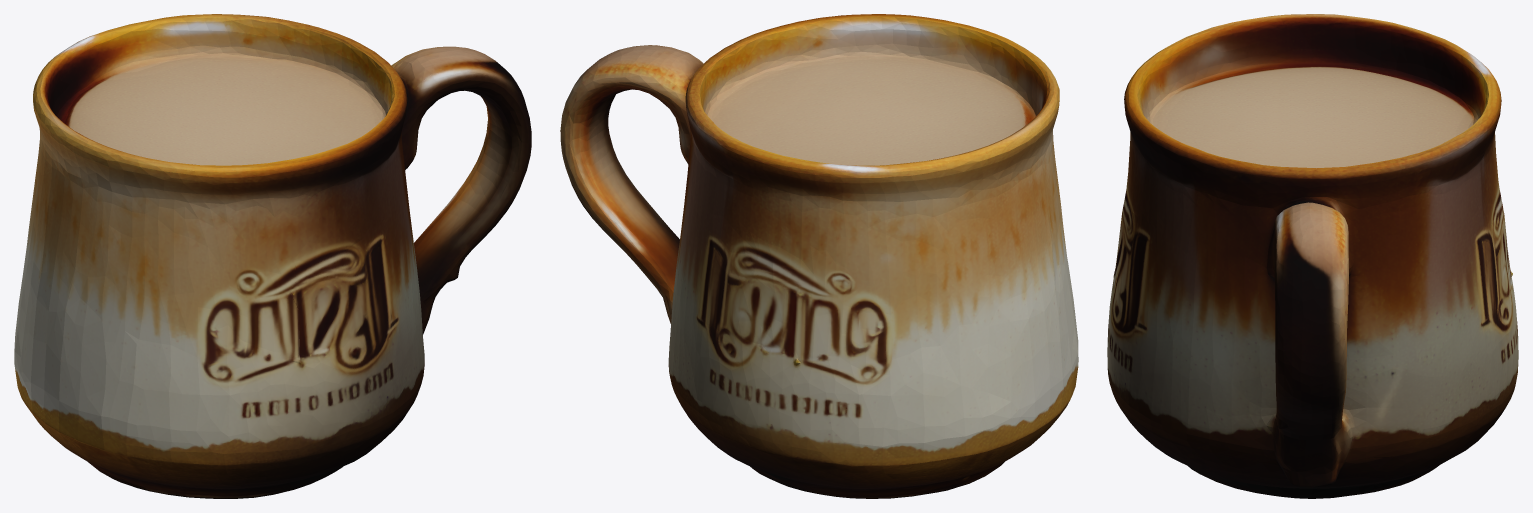
Rendered from ceramic-personalized-mug-used-rustic-worn.jpeg.glb.
3 views of the same model, side by side, from view 1: azimuth 30°, elevation 25°; view 2: azimuth 150°, elevation 25°; view 3: azimuth 270°, elevation 25° (orthographic).
Parts seen in each view (by area): view 1: world; view 2: world; view 3: world.
Part boxes in pixels (x1=…): world: x1=14, y1=14, x2=531, y2=498; world: x1=560, y1=14, x2=1078, y2=498; world: x1=1107, y1=14, x2=1518, y2=498.
Size of the model in its own units: 0.9998 by 0.7019 by 0.747.
1 material, 1 textured.
